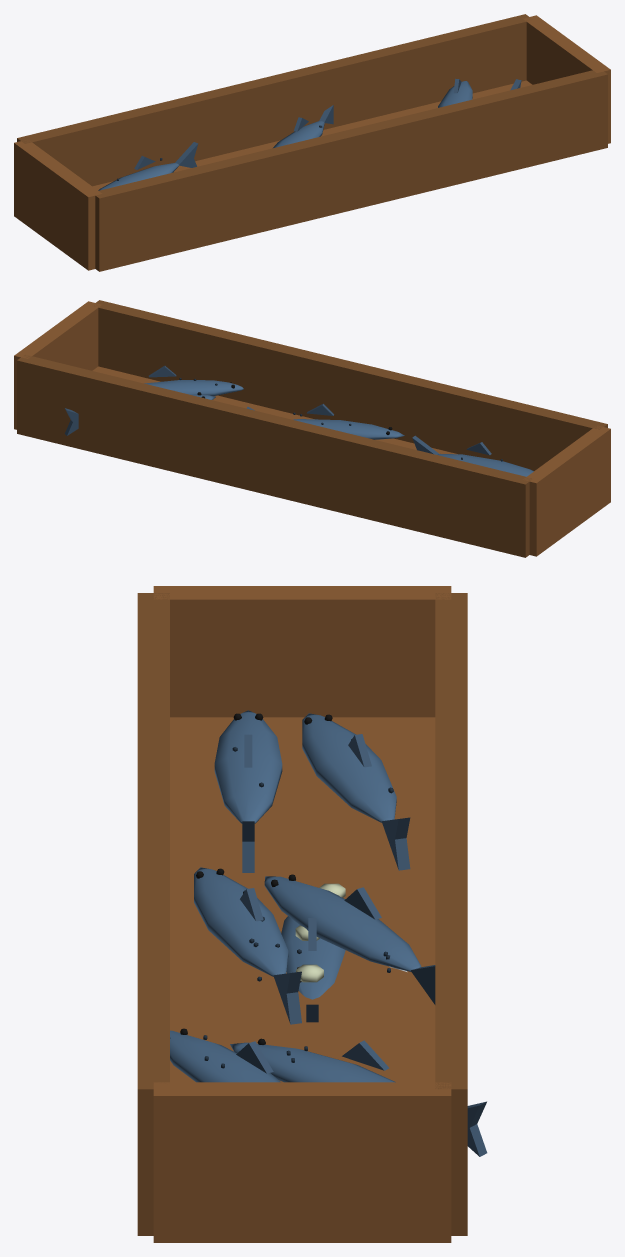
Rendered from Fish_Sardine.fbx.
3 views of the same model, one above another, from view 1: azimuth 30°, elevation 25°; view 2: azimuth 150°, elevation 25°; view 3: azimuth 270°, elevation 25° (orthographic). The views are drawn at different scales.
Parts seen in each view (by area): view 1: Fish_Sardine__Stack; view 2: Fish_Sardine__Stack; view 3: Fish_Sardine__Stack, Fish_Sardine.
Boxes of the visible parts, x1,y1,x2,y2 form: Fish_Sardine__Stack: [14, 14, 610, 271]; Fish_Sardine__Stack: [14, 300, 610, 557]; Fish_Sardine__Stack: [137, 586, 487, 1242]; Fish_Sardine: [281, 916, 345, 1022].
Bounding box in the file's own units: 0.298 × 0.04 × 0.0864.
